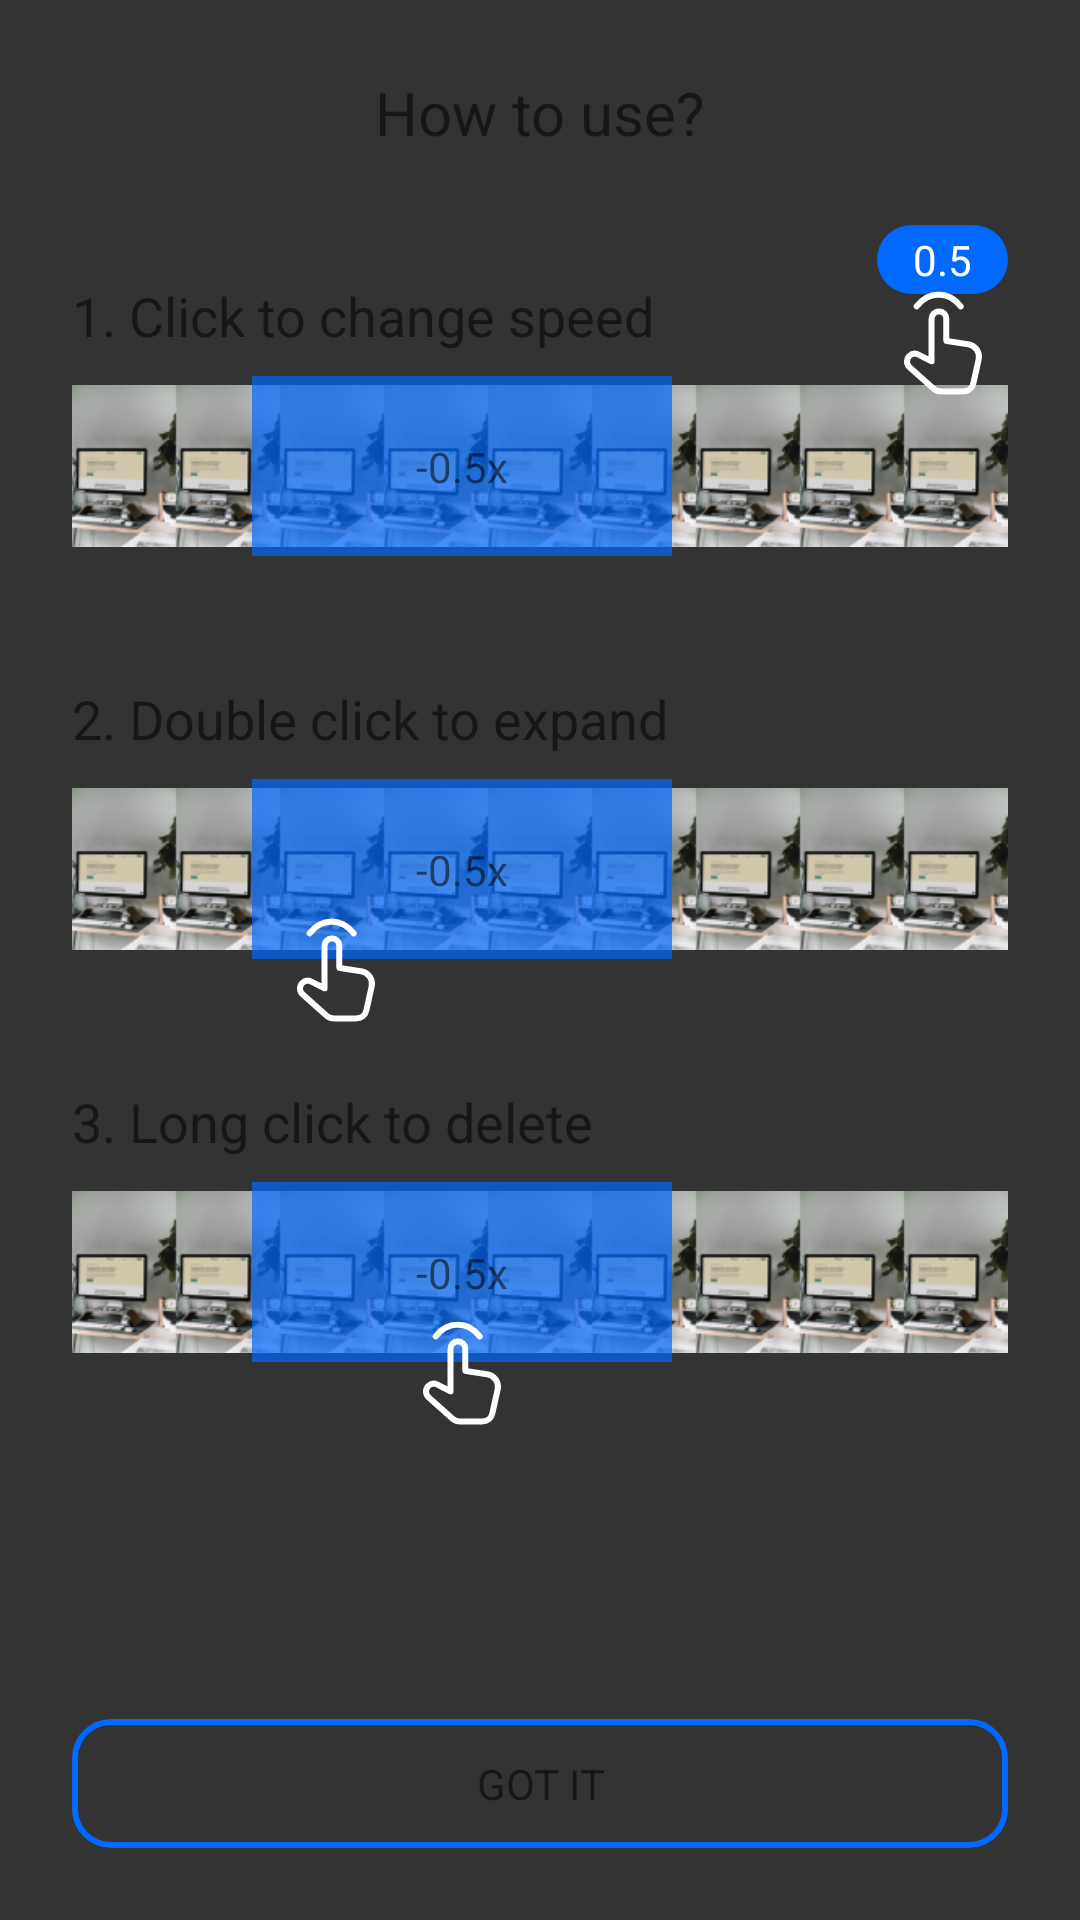

Icons on this 1080px x 1920px Android screen, each with the point to tap as (x,y):
finger: (943,343), (336,970), (462,1373)
